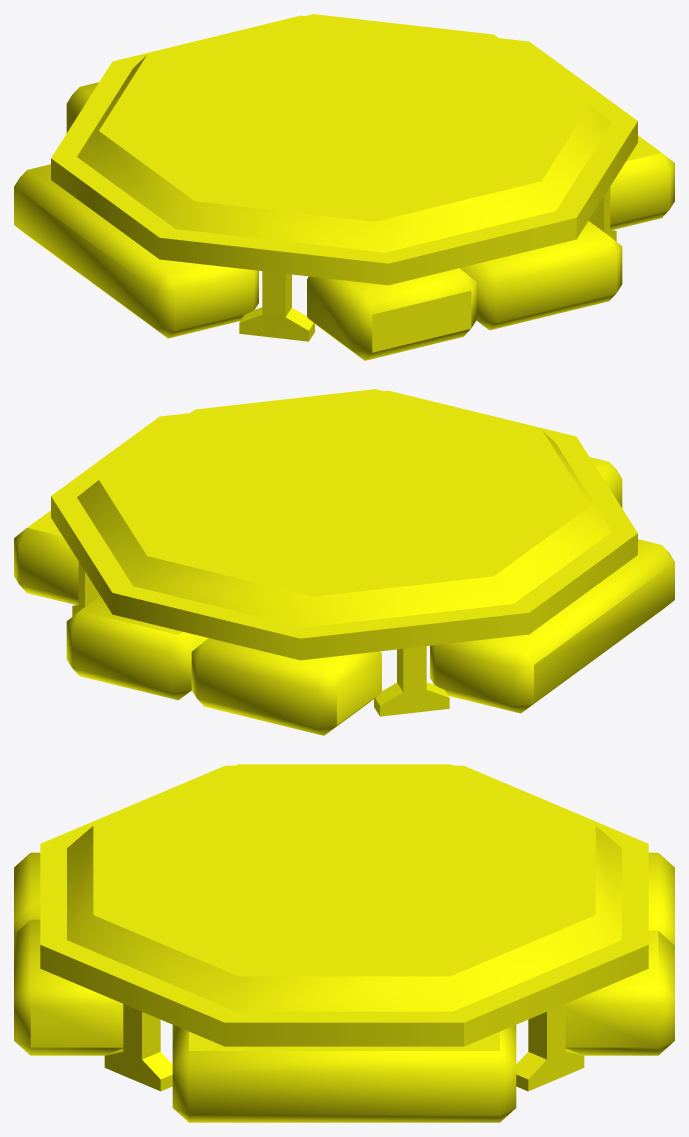
Rendered from kaykit-landingpad-large.glb.
The picture shows the model from 3 angles, top to bottom: view 1: azimuth 30°, elevation 25°; view 2: azimuth 150°, elevation 25°; view 3: azimuth 270°, elevation 25°; orthographic projection. The views are drawn at different scales.
Parts seen in each view (by area): view 1: landingpad_large; view 2: landingpad_large; view 3: landingpad_large.
Boxes of the visible parts, x1,y1,x2,y2 form: landingpad_large: [14, 14, 674, 360]; landingpad_large: [14, 389, 674, 735]; landingpad_large: [14, 764, 674, 1122].
Bounding box in the file's own units: 2.5 × 0.4999 × 2.5.
